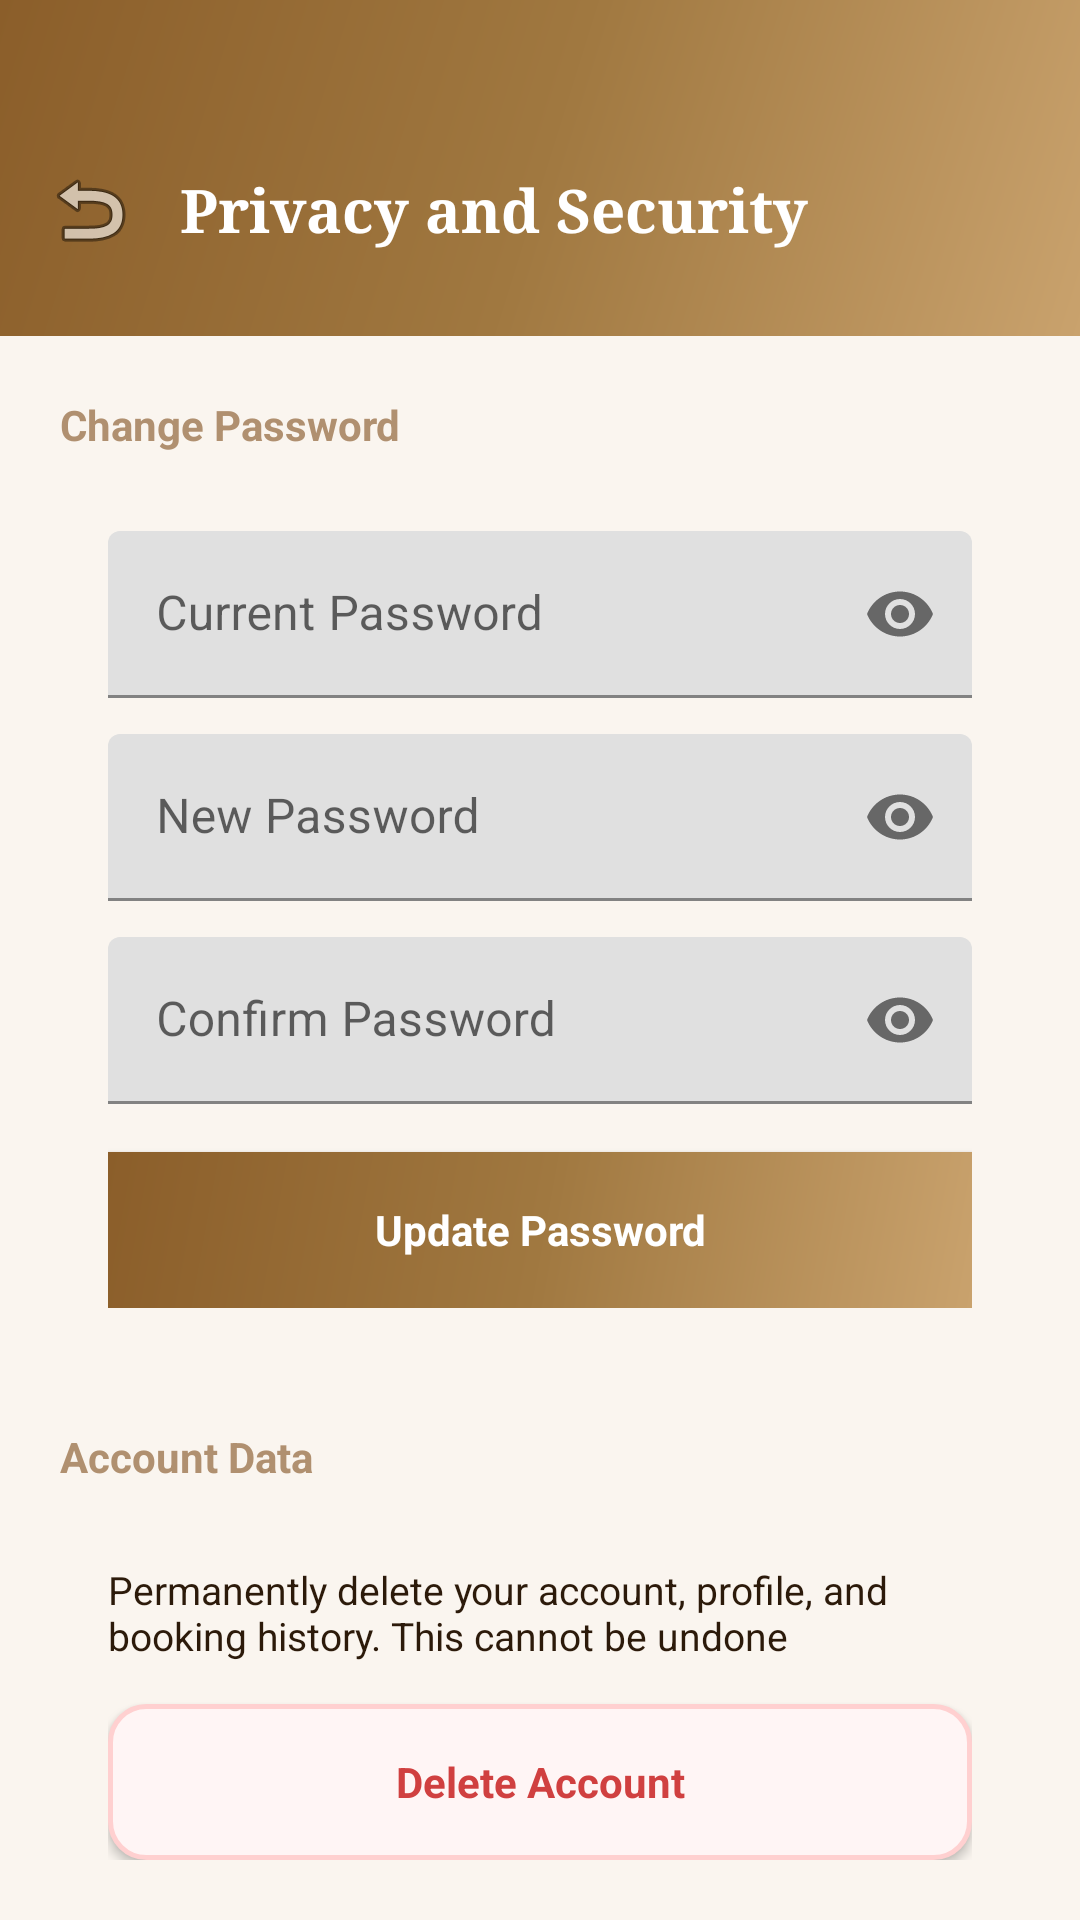

Where icons sit on this 1080 × 1920 app screen, as (x1, y1, x2, y2):
Back: (57, 180, 126, 242)
